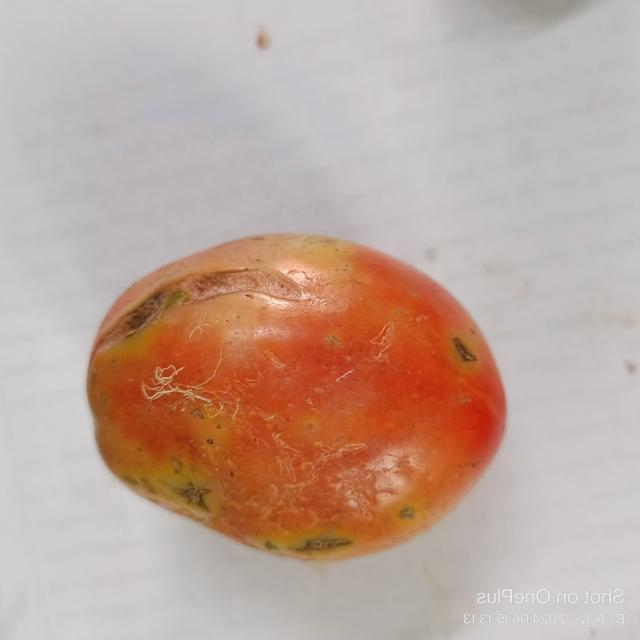Bacterial_Spot: (105, 268, 308, 344), (443, 322, 489, 368), (170, 478, 210, 514), (296, 530, 351, 556), (392, 502, 426, 528)
